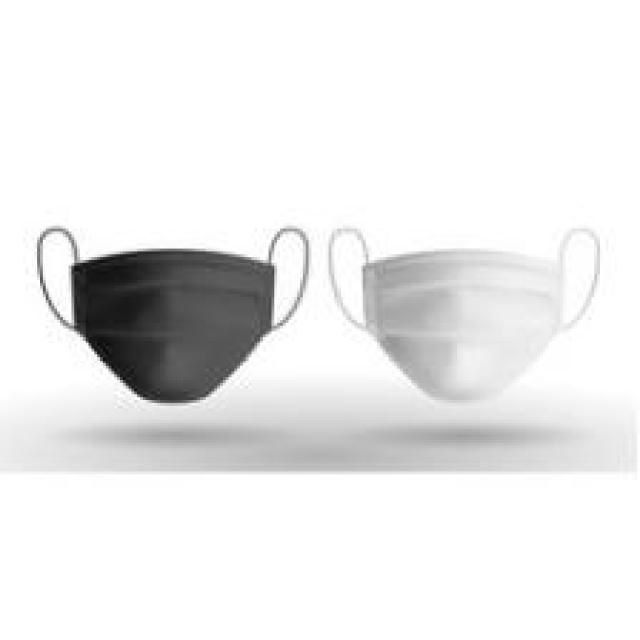Mask: (320, 210, 621, 415), (26, 215, 319, 408)
